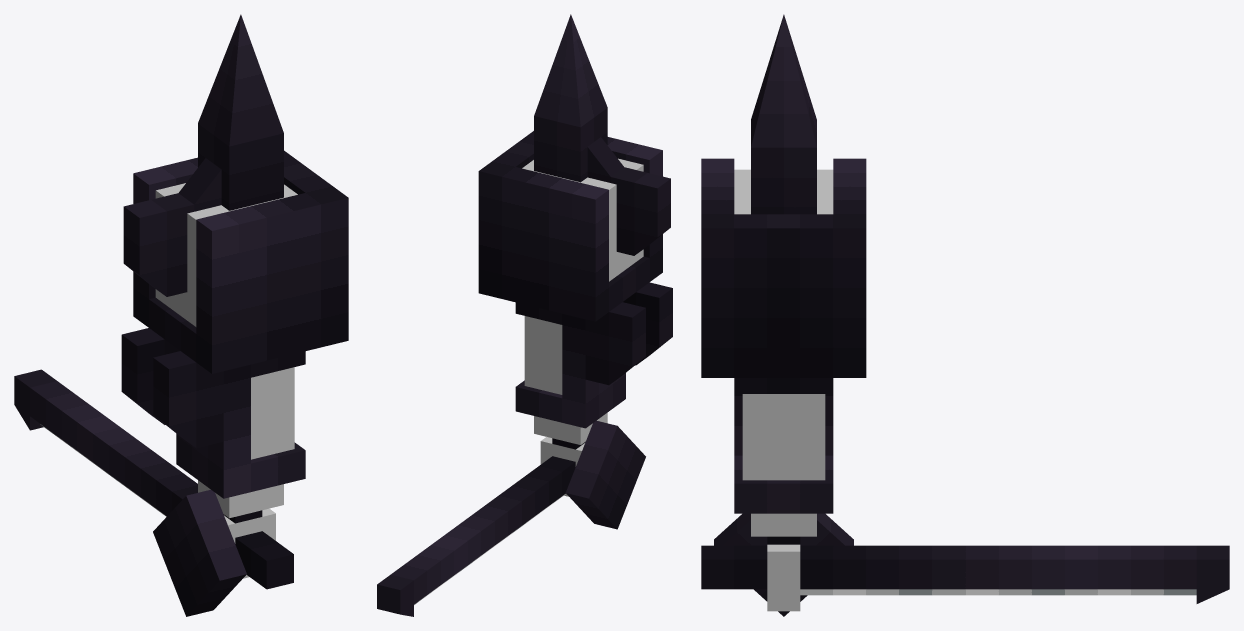
Rendered from arm_fisher_l.obj.
The picture shows the model from 3 angles, left to right: view 1: azimuth 30°, elevation 25°; view 2: azimuth 150°, elevation 25°; view 3: azimuth 270°, elevation 25°; orthographic projection. The views are drawn at different scales.
Visible parts, largest first — view 1: ARM_LEFT_FISHER.OBSVAR_Cube.022, ARM_LEFT_DECO_OBSIDIAN_Cube.362; view 2: ARM_LEFT_FISHER.OBSVAR_Cube.022, ARM_LEFT_DECO_OBSIDIAN_Cube.362; view 3: ARM_LEFT_FISHER.OBSVAR_Cube.022, ARM_LEFT_DECO_OBSIDIAN_Cube.362.
Part boxes in pixels (bbox=[...]): ARM_LEFT_FISHER.OBSVAR_Cube.022: bbox=[14, 150, 348, 616]; ARM_LEFT_DECO_OBSIDIAN_Cube.362: bbox=[121, 14, 283, 448]; ARM_LEFT_FISHER.OBSVAR_Cube.022: bbox=[377, 131, 662, 616]; ARM_LEFT_DECO_OBSIDIAN_Cube.362: bbox=[534, 14, 672, 385]; ARM_LEFT_FISHER.OBSVAR_Cube.022: bbox=[701, 158, 1229, 616]; ARM_LEFT_DECO_OBSIDIAN_Cube.362: bbox=[751, 14, 816, 214].
Bounding box in the file's own units: 0.4062 × 1.29 × 1.
